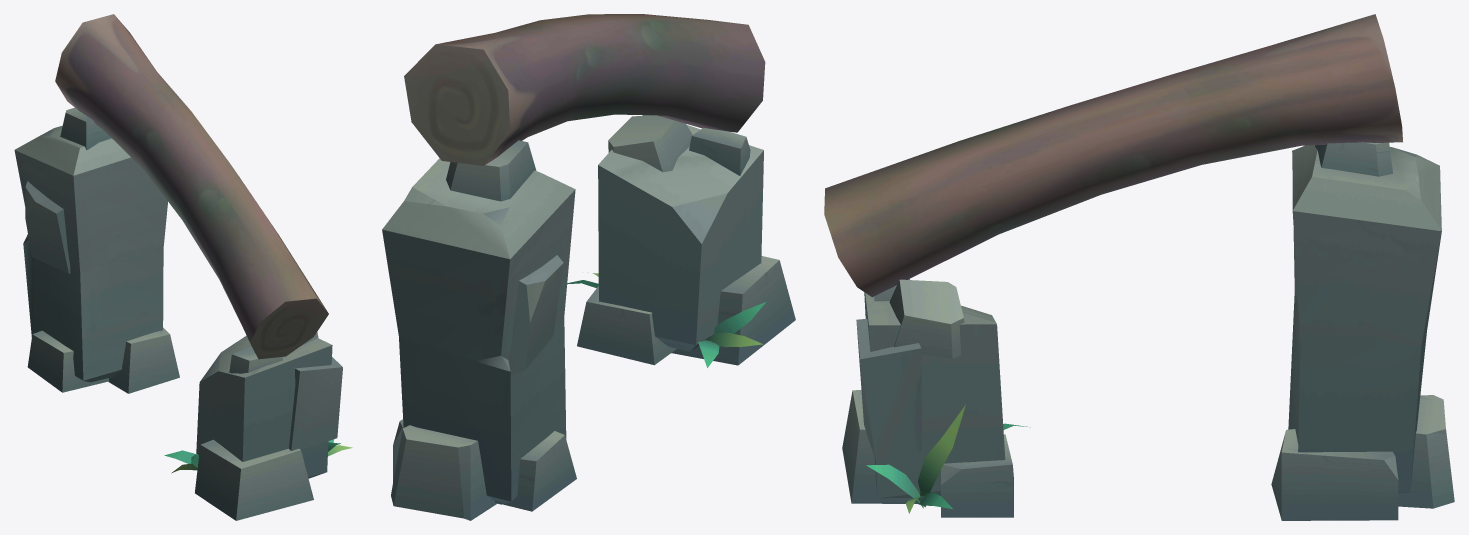
Rendered from WallEntrance2B-002_40_20_3950.fbx.
3 renders of one model, left to right at view 1: azimuth 30°, elevation 25°; view 2: azimuth 150°, elevation 25°; view 3: azimuth 270°, elevation 25°, orthographic. The views are drawn at different scales.
Visible parts, largest first — view 1: Arch; view 2: Arch; view 3: Arch.
Part boxes in pixels (bbox=[...]): Arch: bbox=[14, 14, 352, 520]; Arch: bbox=[382, 14, 795, 520]; Arch: bbox=[824, 14, 1454, 520].
Bounding box in the file's own units: 2.43 × 4.98 × 6.05.
